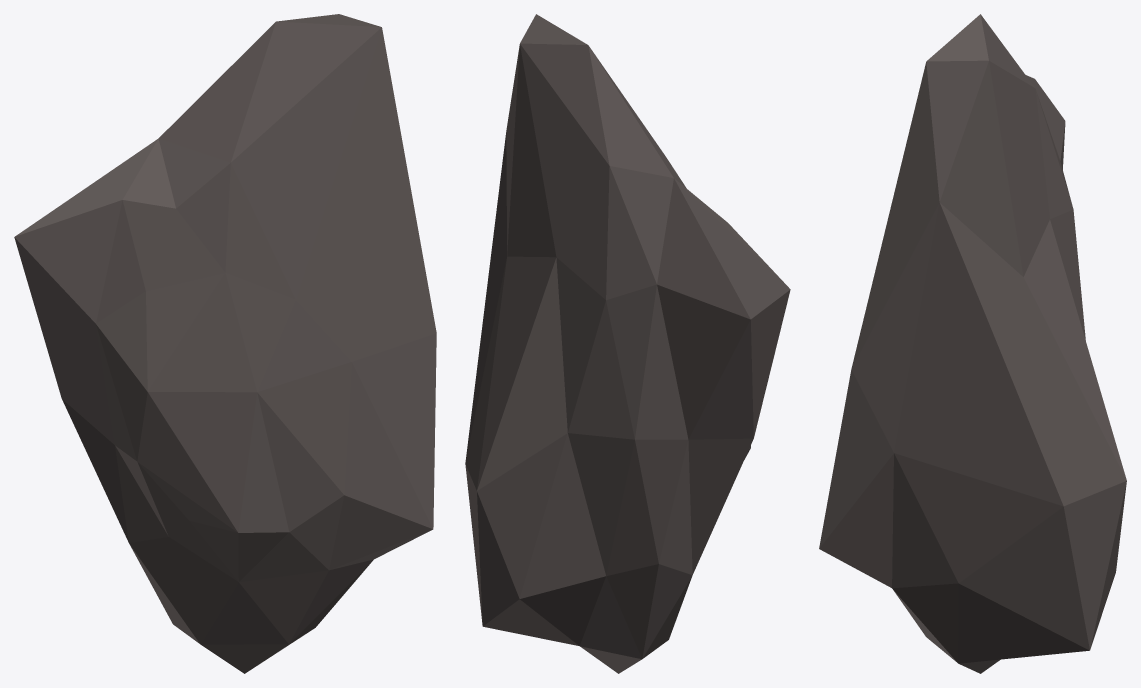
File: Rock.fbx
3 views of the same model, side by side, from view 1: azimuth 30°, elevation 25°; view 2: azimuth 150°, elevation 25°; view 3: azimuth 270°, elevation 25° (orthographic). The views are drawn at different scales.
Visible parts, largest first — view 1: Rock; view 2: Rock; view 3: Rock.
Part boxes in pixels (x1,y1,x2,y2): Rock: (14, 14, 436, 673); Rock: (465, 14, 790, 673); Rock: (819, 14, 1126, 673).
Bounding box in the file's own units: 337 × 609 × 251.
